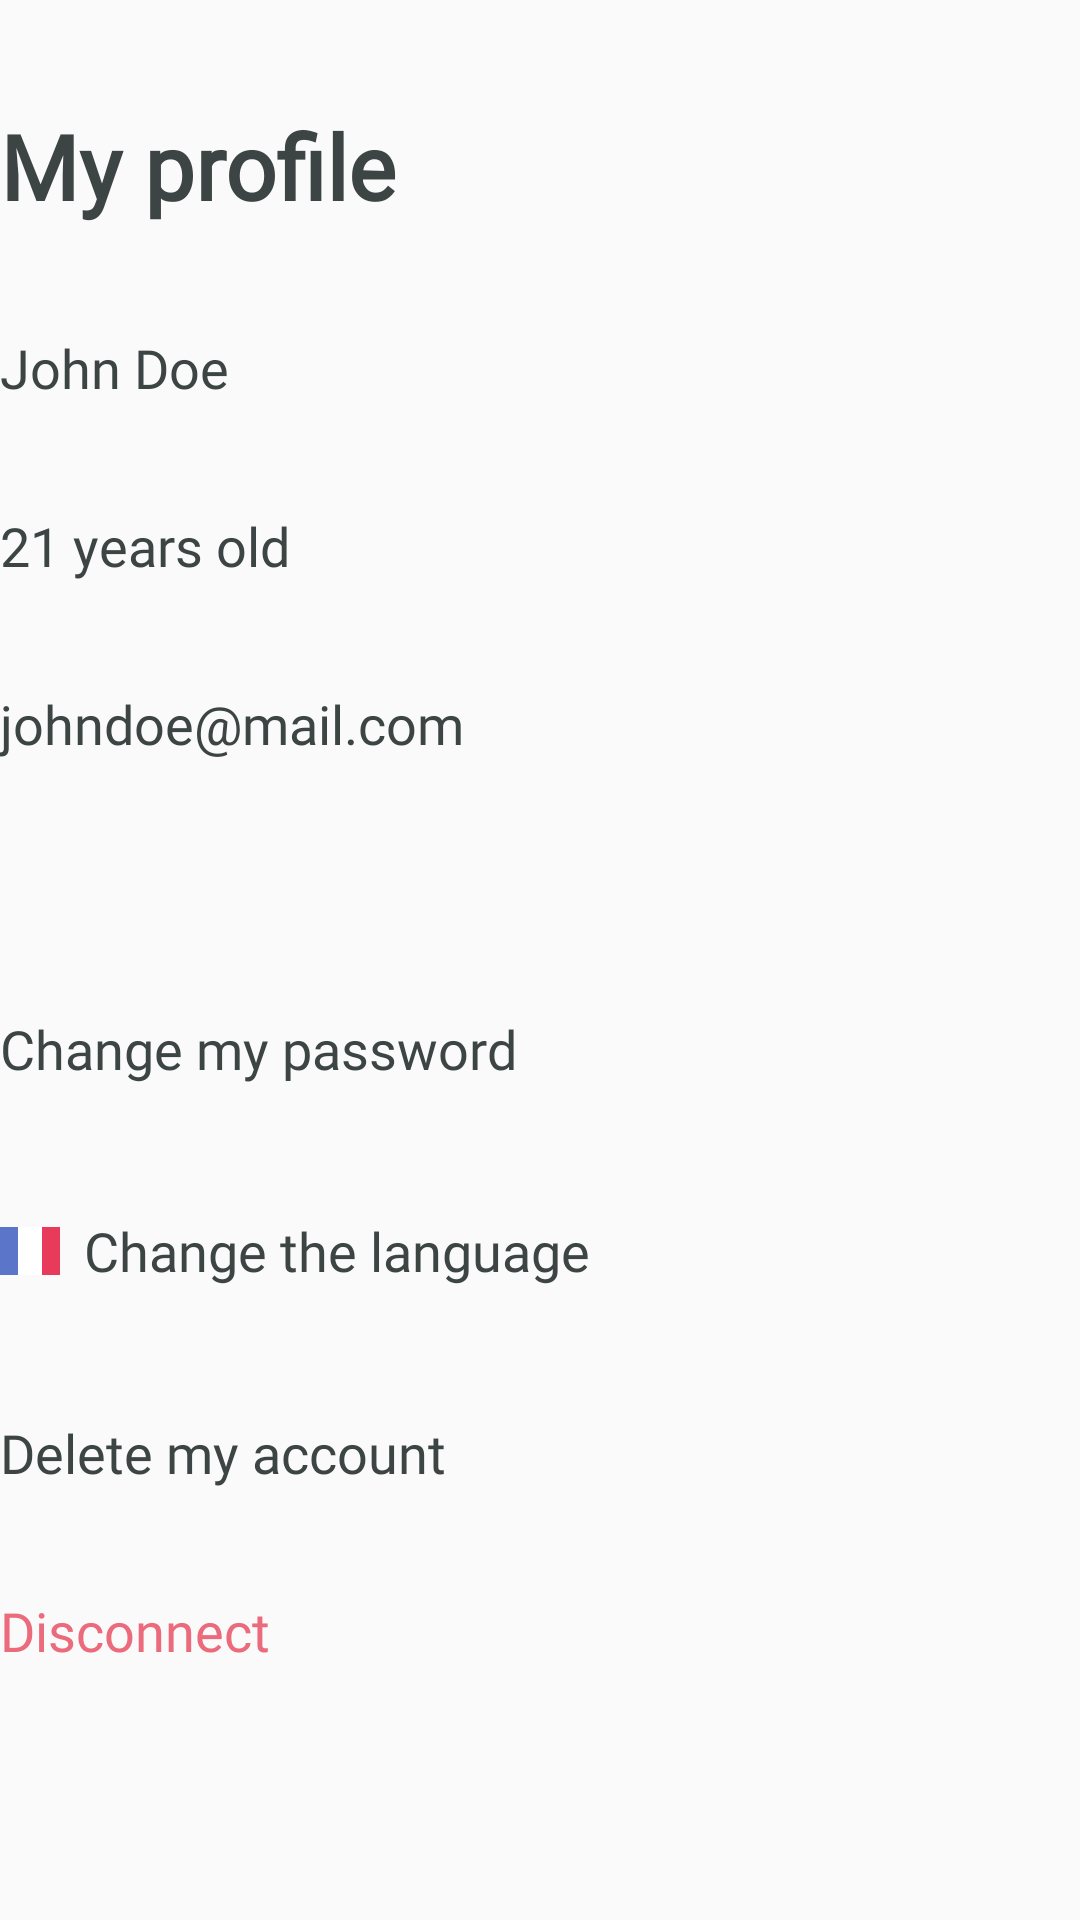

Where to tap for icons on this 1080 × 1920 app screen, as (x=x, y=y):
french flag: (x=30, y=1251)
